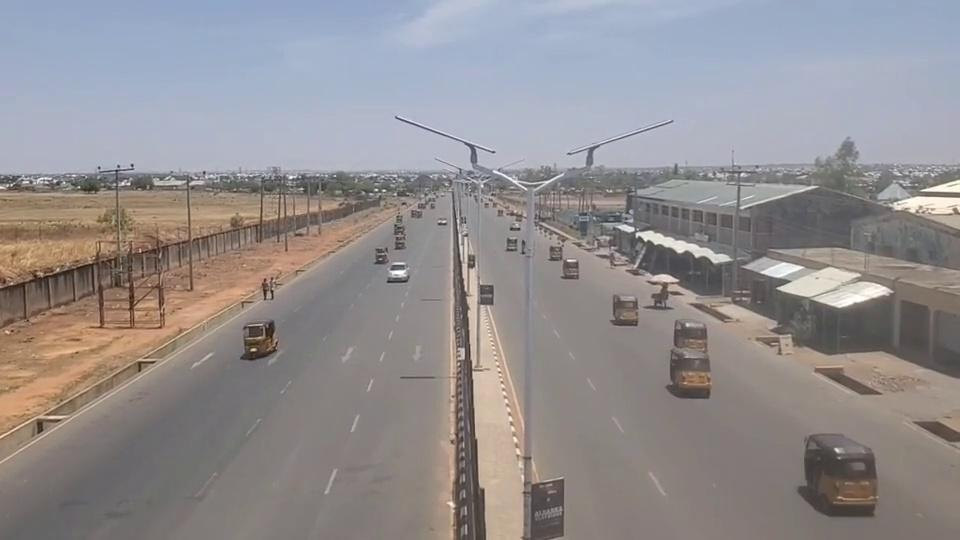keke: (802, 432, 878, 513), (669, 347, 712, 397), (242, 319, 278, 358), (672, 316, 710, 342), (614, 293, 640, 326)
